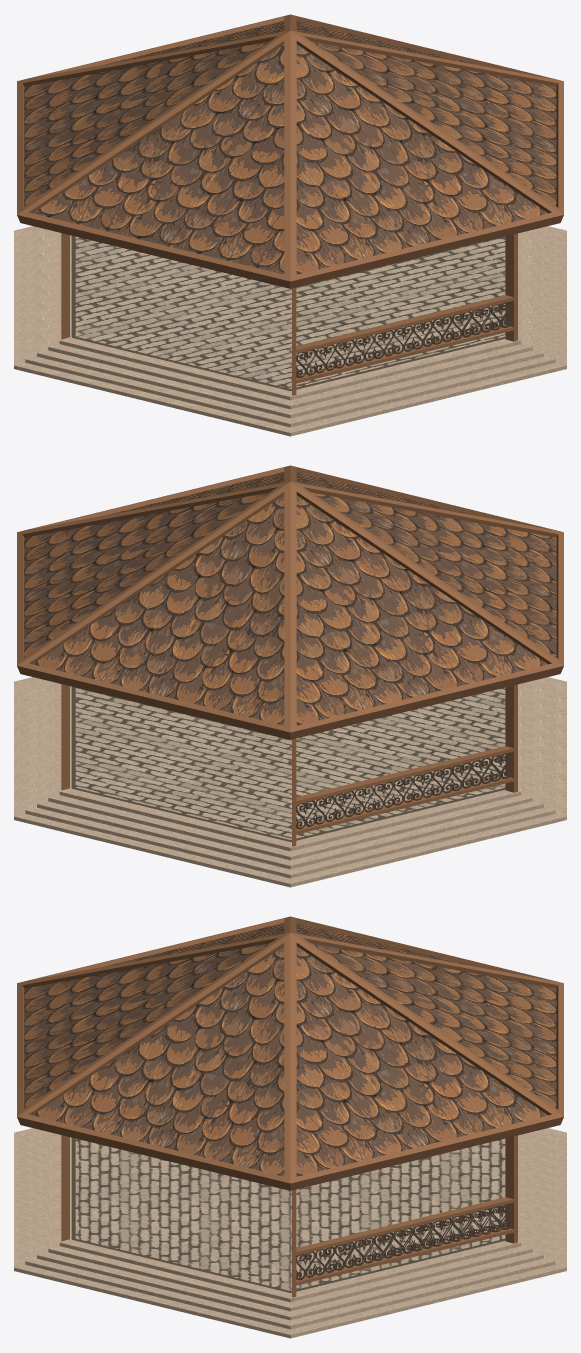
The model's file is Gazebo.fbx.
The picture shows the model from 3 angles, top to bottom: view 1: azimuth 30°, elevation 25°; view 2: azimuth 150°, elevation 25°; view 3: azimuth 270°, elevation 25°; orthographic projection.
Parts seen in each view (by area): view 1: Gazebo, FancyFence; view 2: Gazebo, FancyFence; view 3: Gazebo, FancyFence.
Part boxes in pixels (x1,y1,x2,y2): Gazebo: [14, 14, 566, 436]; FancyFence: [296, 301, 511, 378]; Gazebo: [14, 465, 566, 887]; FancyFence: [296, 752, 511, 829]; Gazebo: [14, 916, 566, 1338]; FancyFence: [296, 1203, 511, 1280].
Size of the model in its own units: 1677 by 785 by 1452.
Materials: 4 (4 with a texture image).
